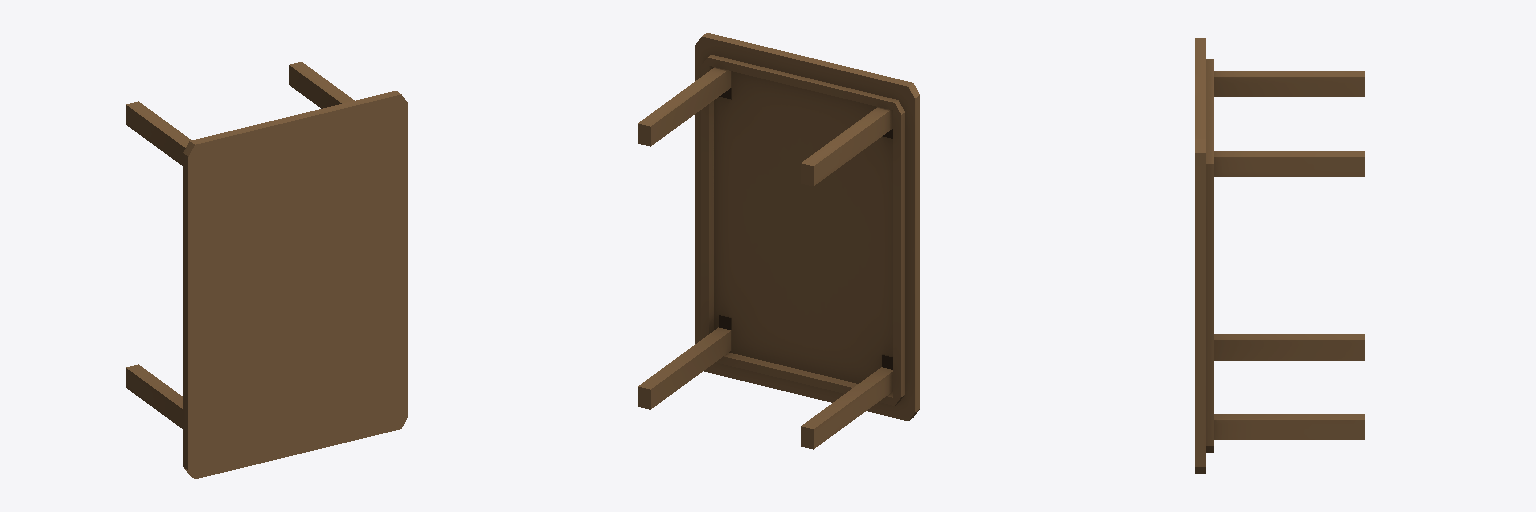
The picture shows the model from 3 angles: view 1: azimuth 30°, elevation 25°; view 2: azimuth 150°, elevation 25°; view 3: azimuth 270°, elevation 25°; orthographic projection.
Visible parts, largest first — view 1: KitchenTable_02_Cube.118; view 2: KitchenTable_02_Cube.118; view 3: KitchenTable_02_Cube.118.
Boxes of the visible parts, <box> form: KitchenTable_02_Cube.118: <box>126,62,407,478</box>; KitchenTable_02_Cube.118: <box>638,33,919,449</box>; KitchenTable_02_Cube.118: <box>1195,38,1364,473</box>.
Bounding box in the file's own units: 1.5 × 2.18 × 1.
Materials: 1 (1 with a texture image).